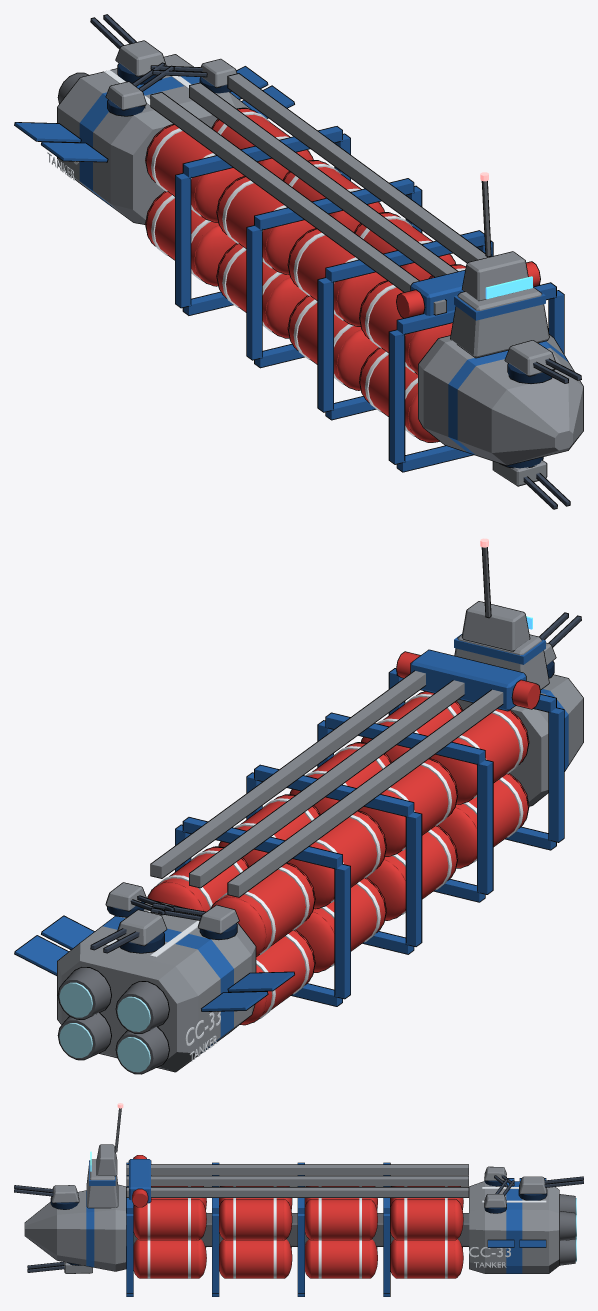
The model's file is Cargo_Cruiser_Tanker.fbx.
3 views of the same model, one above another, from view 1: azimuth 30°, elevation 25°; view 2: azimuth 150°, elevation 25°; view 3: azimuth 270°, elevation 25° (orthographic). The views are drawn at different scales.
Parts seen in each view (by area): view 1: Bow.002, Engine.002, Pipe-9.1, Pipe0, Pipe9.1, TankFrame0, TankFrame2, TankFrame3, TankFrame1, Bridge_A.002, Tank22, Tank12 (+27 smaller); view 2: Engine.002, Pipe-9.1, Pipe0, Pipe9.1, TankFrame2, TankFrame1, TankFrame3, Bow.002, Manifold, TankFrame0, Tank32, Tank12 (+37 smaller); view 3: Engine.002, Bow.002, Pipe-9.1, Pipe0, Pipe9.1, Tank33, Tank13, Tank23, Tank03, Tank11, Tank31, Tank21 (+31 smaller).
Boxes of the visible parts, box(x1,y1,x2,y2) form: Bow.002: box(418, 334, 583, 465); Engine.002: box(57, 54, 251, 224); Pipe-9.1: box(150, 92, 446, 315); Pipe0: box(189, 82, 457, 277); Pipe9.1: box(227, 73, 488, 263); TankFrame0: box(388, 282, 564, 472); TankFrame2: box(246, 178, 422, 368); TankFrame3: box(175, 126, 350, 315); TankFrame1: box(317, 230, 493, 420); Bridge_A.002: box(450, 287, 549, 358); Tank22: box(217, 176, 283, 273); Tank12: box(288, 229, 354, 325); Engine.002: box(57, 900, 256, 1072); Pipe-9.1: box(227, 689, 503, 897); Pipe0: box(189, 680, 464, 888); Pipe9.1: box(150, 670, 425, 878); TankFrame2: box(246, 764, 422, 954); TankFrame1: box(317, 712, 493, 902); TankFrame3: box(175, 817, 350, 1006); Bow.002: box(457, 674, 583, 806); Manifold: box(410, 649, 526, 711); TankFrame0: box(388, 668, 564, 850); Tank32: box(211, 863, 314, 954); Tank12: box(381, 759, 457, 855); Engine.002: box(469, 1181, 559, 1273); Bow.002: box(24, 1184, 126, 1271); Pipe-9.1: box(126, 1164, 468, 1175); Pipe0: box(126, 1175, 468, 1186); Pipe9.1: box(126, 1187, 468, 1197); Tank33: box(397, 1199, 454, 1240); Tank13: box(226, 1199, 283, 1240); Tank23: box(312, 1199, 368, 1240); Tank03: box(140, 1199, 197, 1240); Tank11: box(226, 1240, 283, 1278); Tank31: box(397, 1240, 454, 1278); Tank21: box(312, 1240, 368, 1278).
Bounding box in the file's own units: 54.79 × 63.9 × 194.
